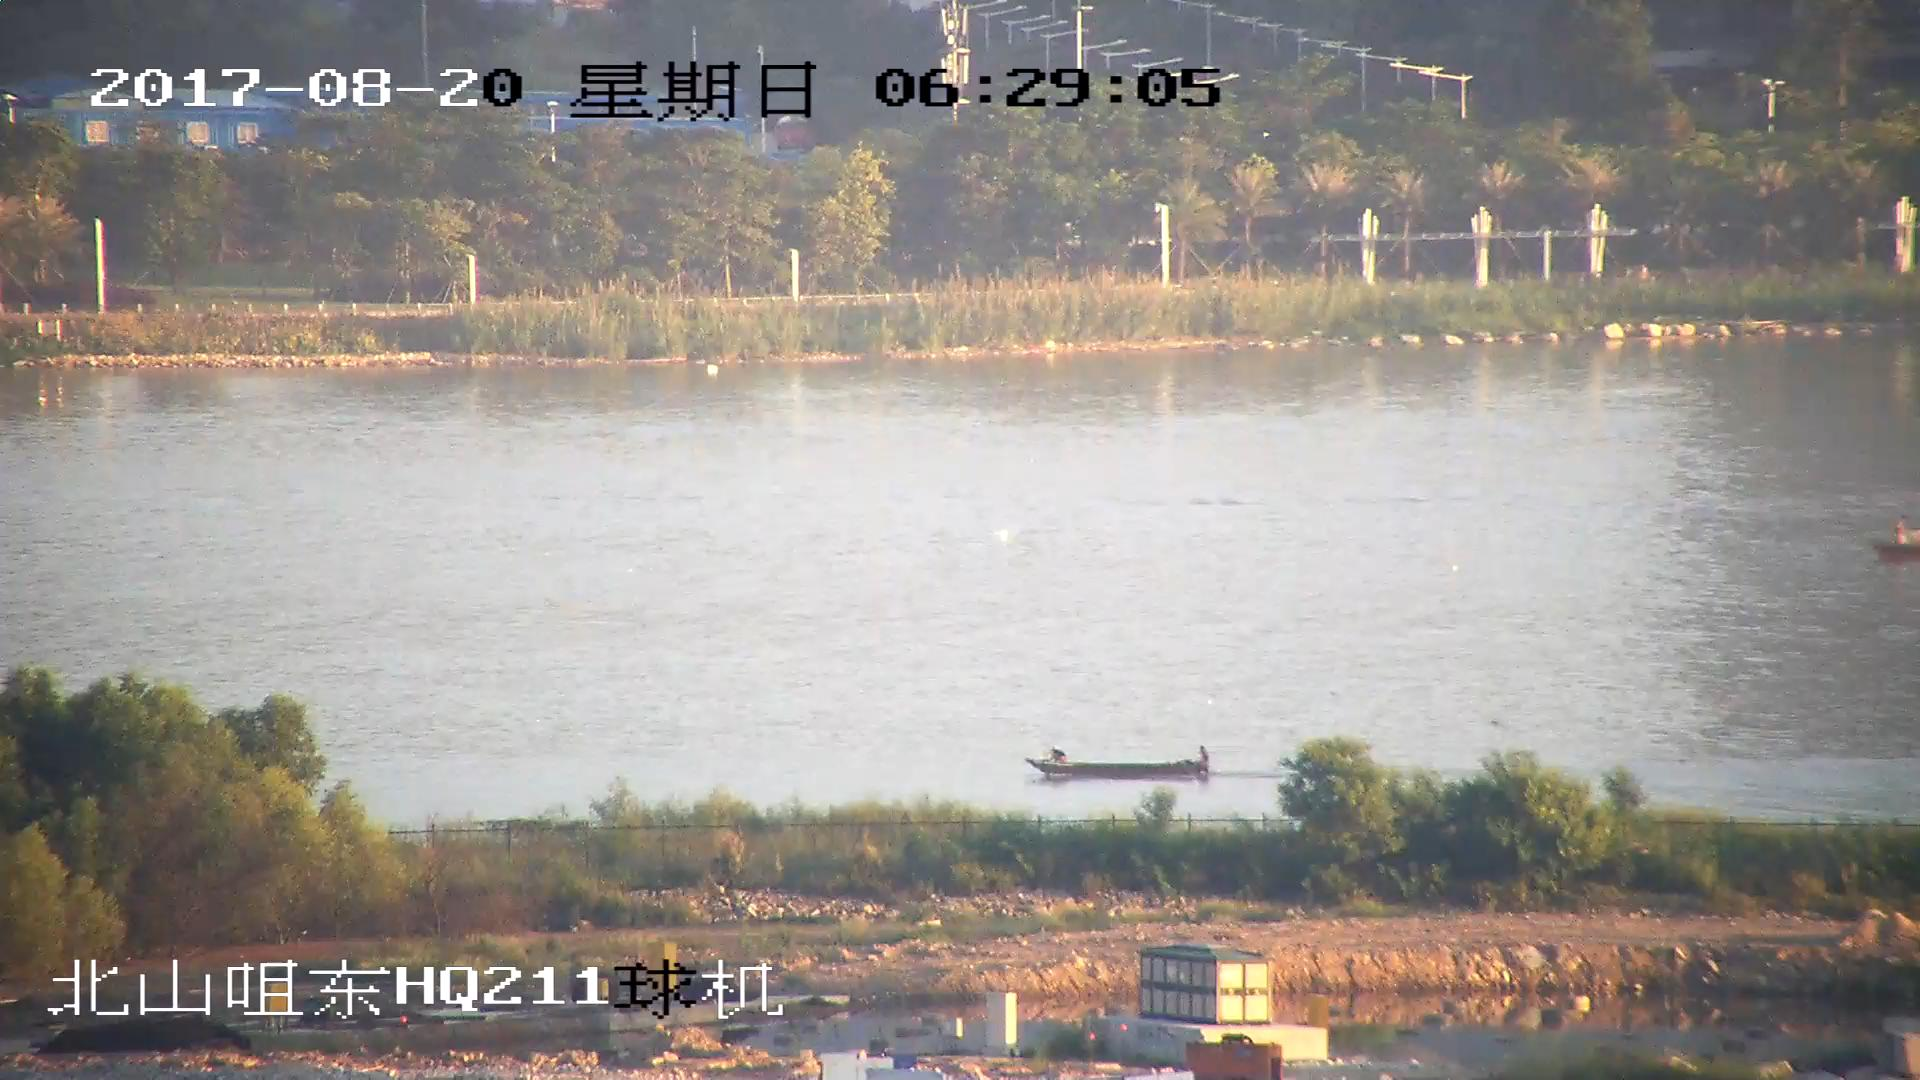fishing boat: (1029, 744, 1217, 774), (1867, 516, 1920, 562)
